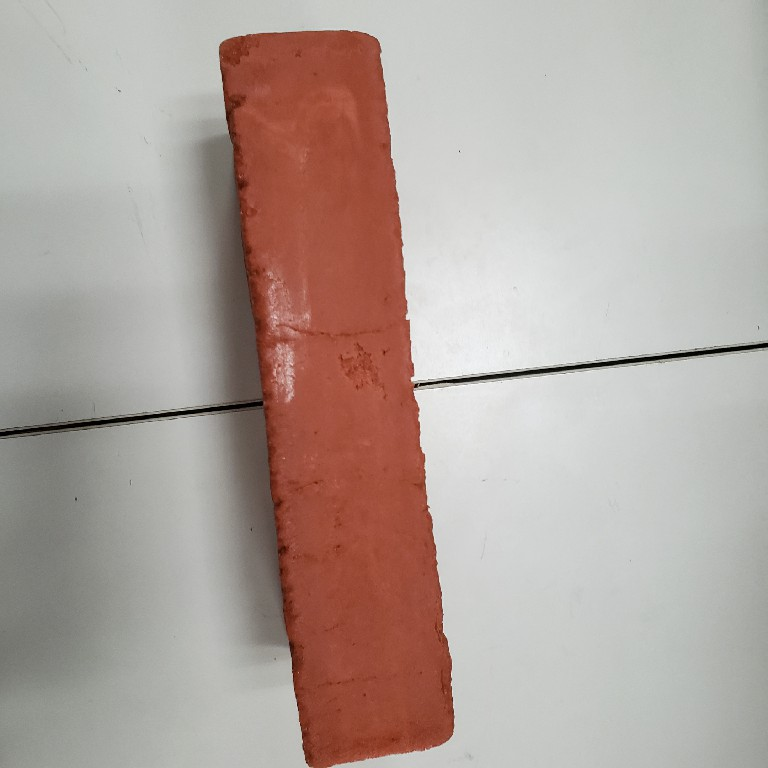brick: (211, 25, 467, 768)
